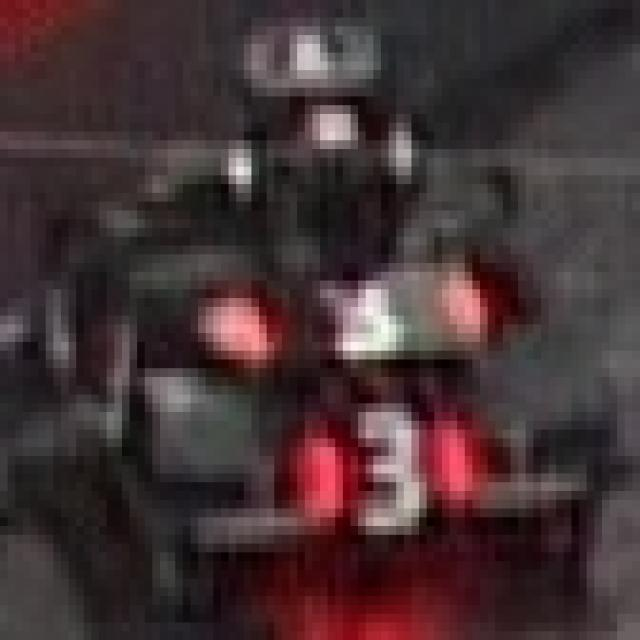R3: (182, 254, 488, 368), (274, 395, 488, 526)
